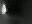person: (2, 4, 9, 17)
